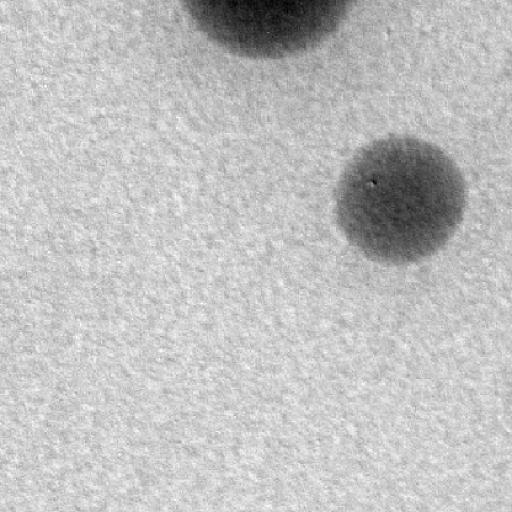Nanoparticles: (333, 133, 467, 263), (181, 0, 357, 58)
